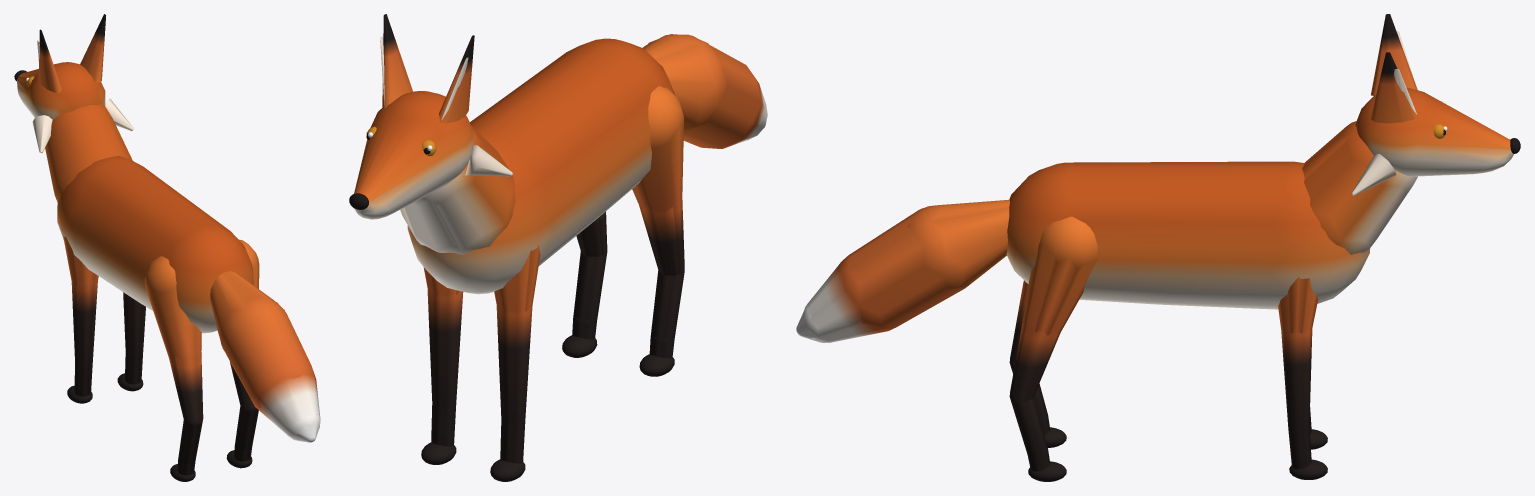
The model's file is Fox.glb.
The picture shows the model from 3 angles, left to right: view 1: azimuth 30°, elevation 25°; view 2: azimuth 150°, elevation 25°; view 3: azimuth 270°, elevation 25°; orthographic projection. The views are drawn at different scales.
Parts seen in each view (by area): view 1: Body, Tail, LegBL, Head, LegFL, LegBR, LegFR; view 2: Body, Head, LegBL, Tail, LegFL, LegFR, LegBR; view 3: Body, Tail, Head, LegBR, LegFR, LegBL.
Part boxes in pixels (x1,y1,x2,y2): Body: (45,104,253,333); Tail: (210,271,320,442); LegBL: (144,256,203,481); Head: (14,14,133,153); LegFL: (63,235,98,403); LegBR: (226,239,259,468); LegFR: (117,292,145,391); Body: (400,38,674,294); Head: (349,14,512,219); LegBL: (632,86,684,376); Tail: (642,34,767,148); LegFL: (490,245,540,481); LegFR: (421,267,463,464); LegBR: (562,211,607,357); Body: (1006,121,1417,309); Tail: (796,199,1009,342); Head: (1352,14,1520,195); LegBR: (1009,216,1097,481); LegFR: (1278,277,1327,479); LegBL: (1009,280,1066,447).
Bounding box in the file's own units: 1.4 × 4.36 × 6.66.
1 material, 1 textured.
